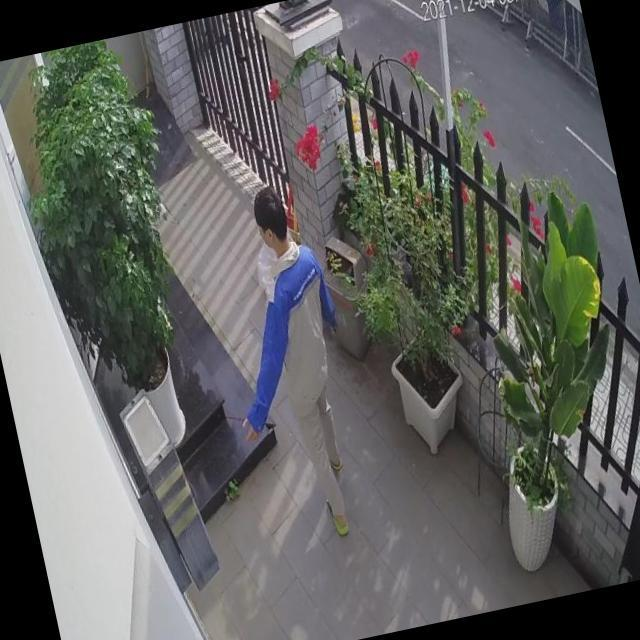person: (195, 178, 382, 548)
